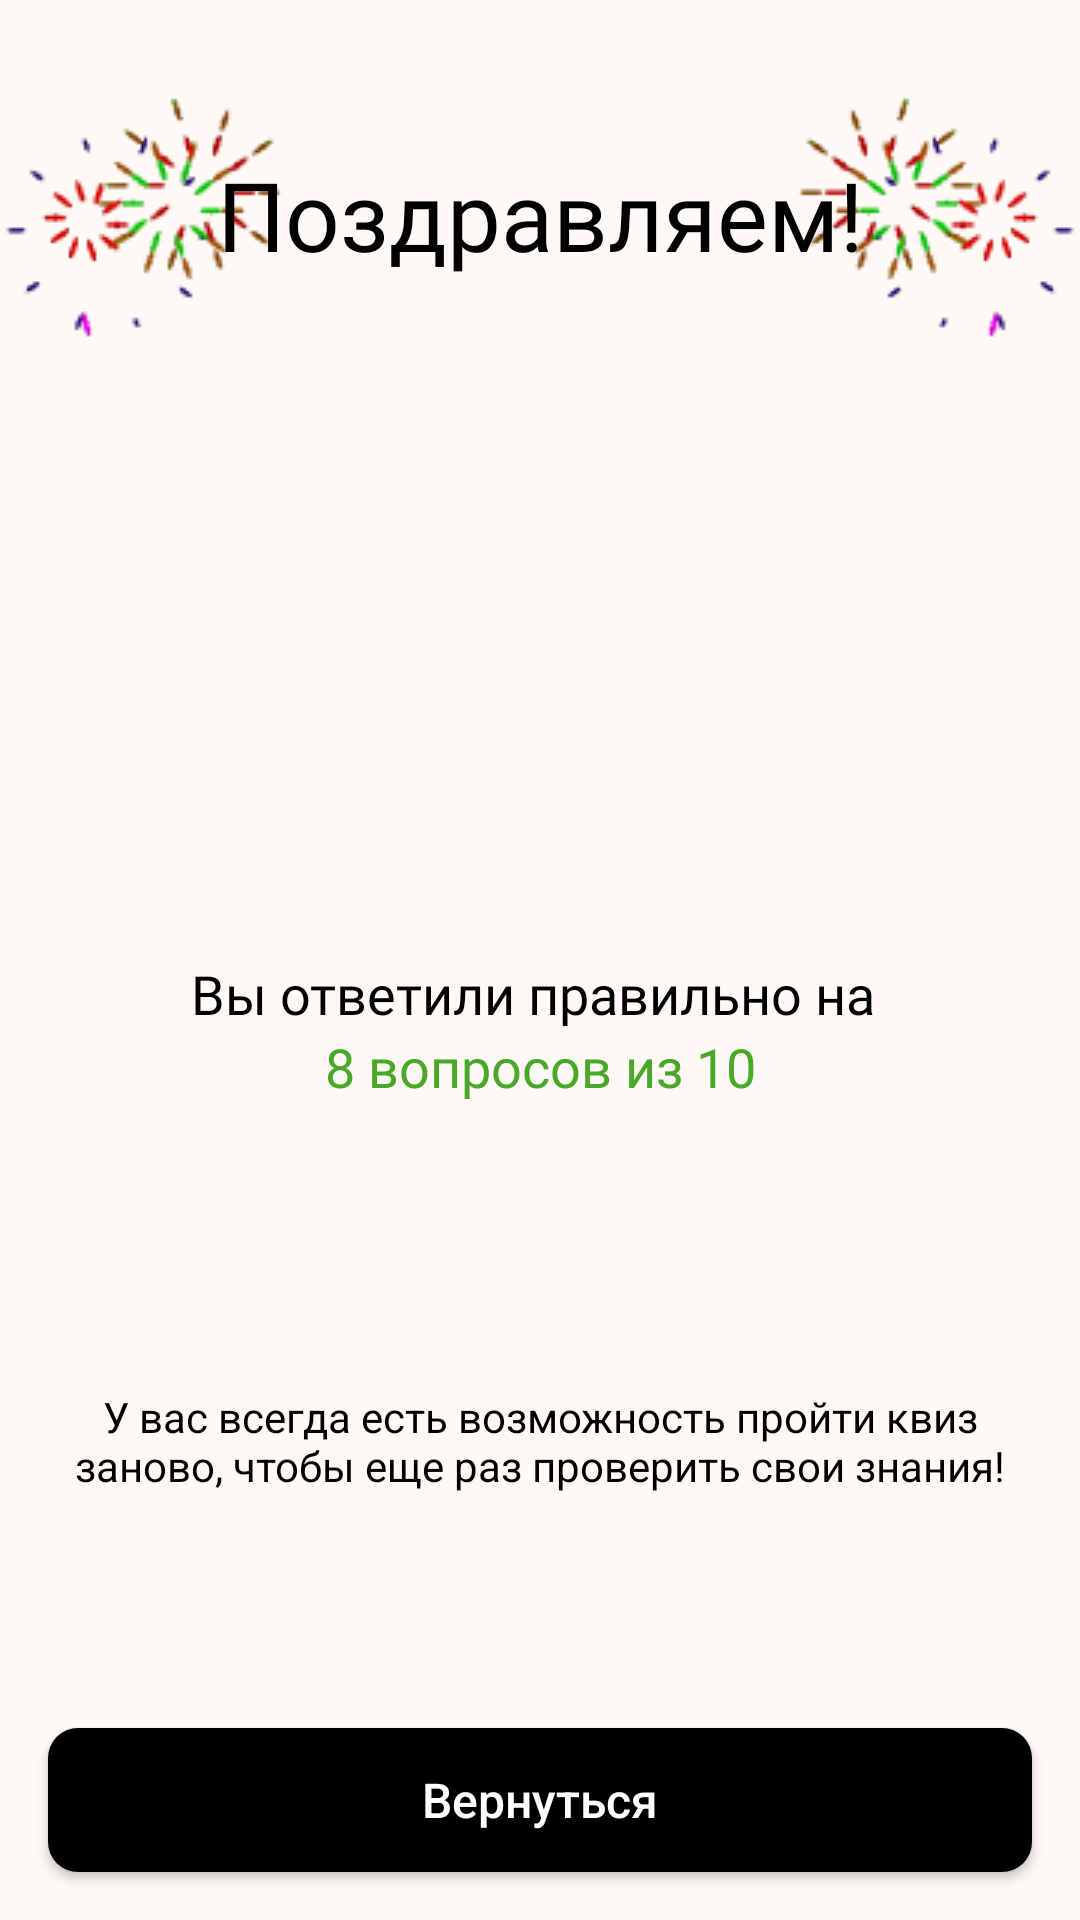

Icons on this 1080x1920 Android screen, each with the point to tap as (x,y):
confetti gif: (143,217), (924,217)
